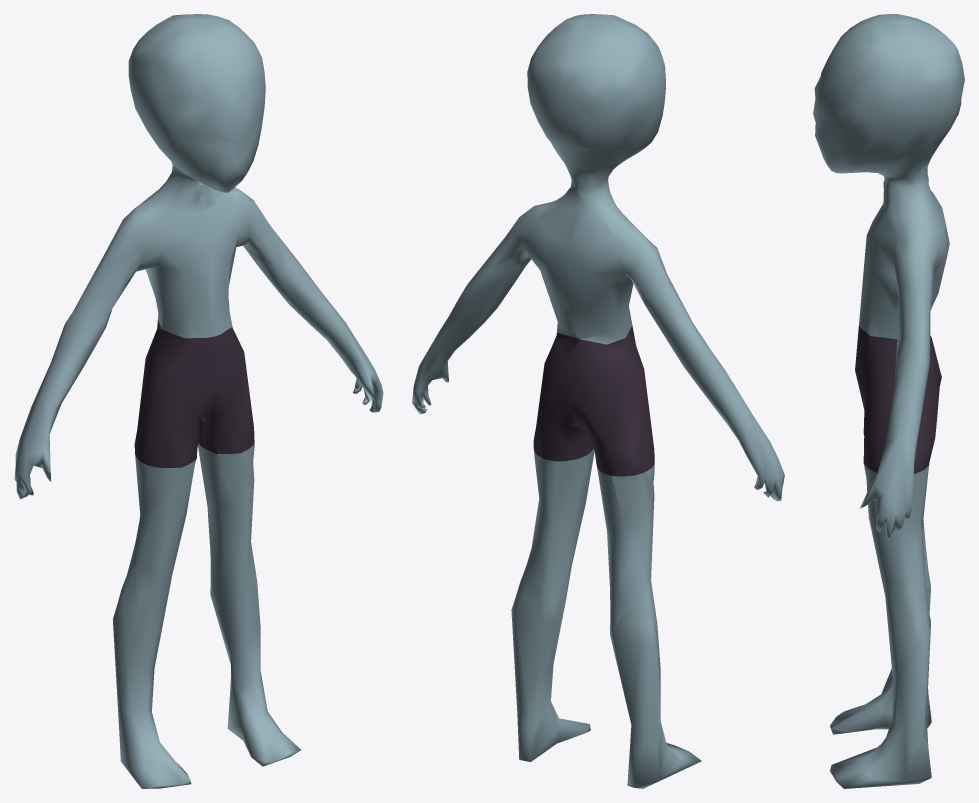
File: protagonista_corpo_limpo.glb
3 views of the same model, side by side, from view 1: azimuth 30°, elevation 25°; view 2: azimuth 150°, elevation 25°; view 3: azimuth 270°, elevation 25° (orthographic).
Visible parts, largest first — view 1: cabeca, roupa_intima, bracos, tronco, canelas, coxas, pes, maos, quadril; view 2: cabeca, roupa_intima, bracos, tronco, canelas, coxas, pes, maos, quadril; view 3: cabeca, bracos, tronco, canelas, roupa_intima, pes, coxas, maos, quadril.
Boxes of the visible parts, x1,y1,x2,y2 form: cabeca: [128, 14, 265, 192]; roupa_intima: [134, 320, 254, 467]; bracos: [20, 190, 374, 460]; tronco: [105, 170, 281, 337]; canelas: [113, 542, 267, 743]; coxas: [127, 441, 254, 592]; pes: [119, 684, 300, 788]; maos: [14, 361, 383, 499]; quadril: [155, 296, 232, 338]; cabeca: [527, 14, 665, 195]; roupa_intima: [533, 325, 654, 476]; bracos: [417, 206, 775, 457]; tronco: [491, 181, 664, 338]; canelas: [511, 567, 660, 755]; coxas: [525, 448, 654, 605]; pes: [517, 701, 701, 788]; maos: [412, 362, 784, 501]; quadril: [557, 304, 632, 344]; cabeca: [813, 14, 964, 187]; bracos: [874, 231, 938, 492]; tronco: [859, 176, 949, 327]; canelas: [881, 550, 930, 757]; roupa_intima: [855, 325, 941, 473]; pes: [830, 685, 931, 788]; coxas: [864, 435, 928, 604]; maos: [859, 473, 913, 540]; quadril: [859, 291, 935, 339].
Bounding box in the file's own units: 0.4132 × 0.8 × 0.1502.
